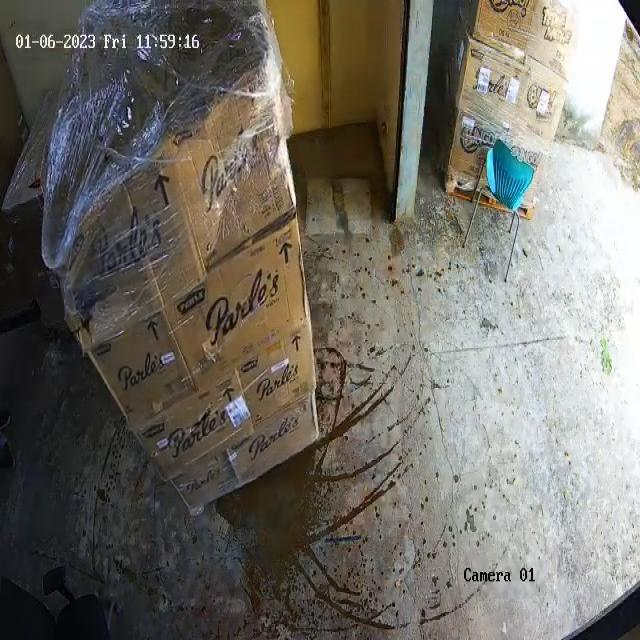leakage: (64, 300, 130, 366), (196, 319, 227, 373)
squeeze: (230, 41, 296, 195), (40, 152, 115, 279)
